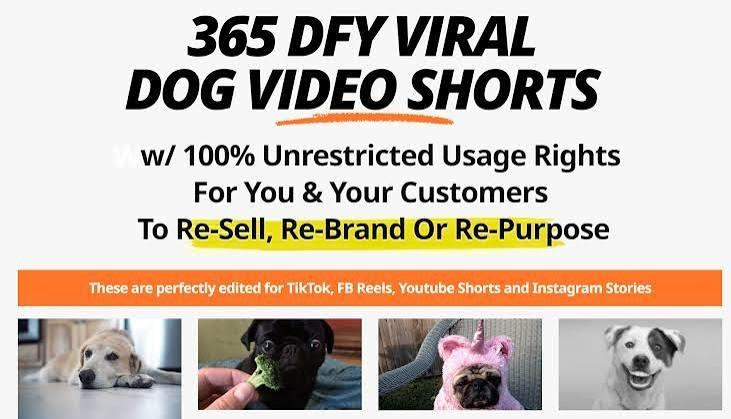adult_dog: (236, 319, 336, 410), (589, 323, 688, 410), (30, 325, 161, 390), (434, 332, 525, 412)
